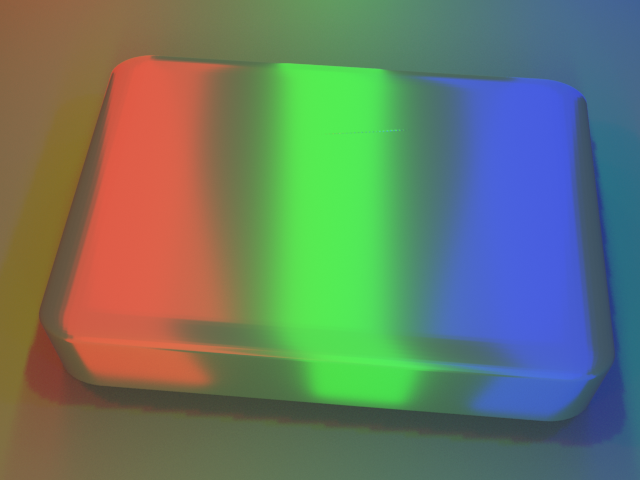scratch: (240, 55, 494, 190)
